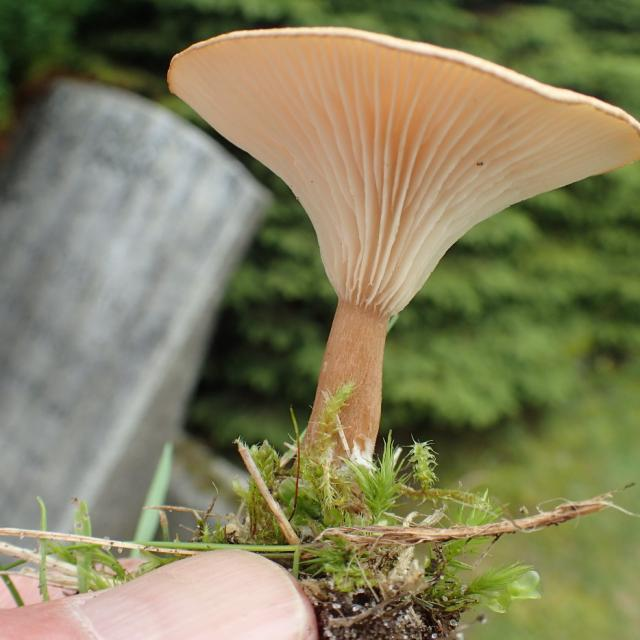Clitocybe maxima: (166, 28, 640, 473)
